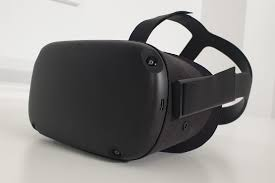oculus: (28, 26, 223, 165)
